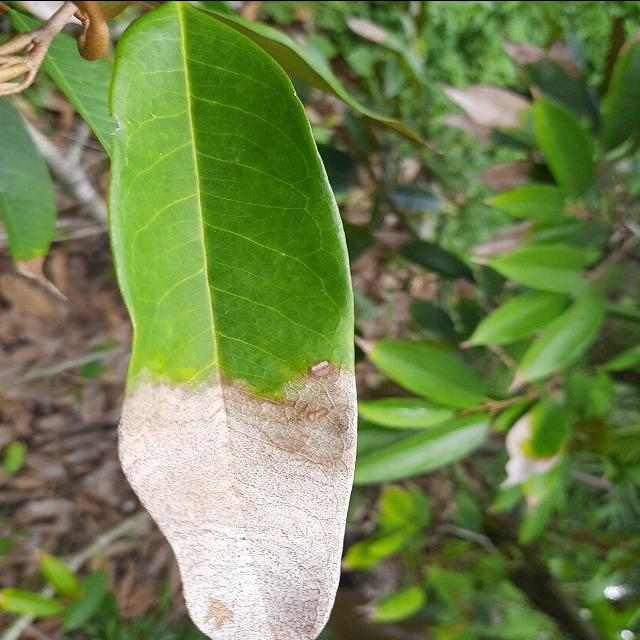Leaf Blight: (95, 0, 363, 640)
